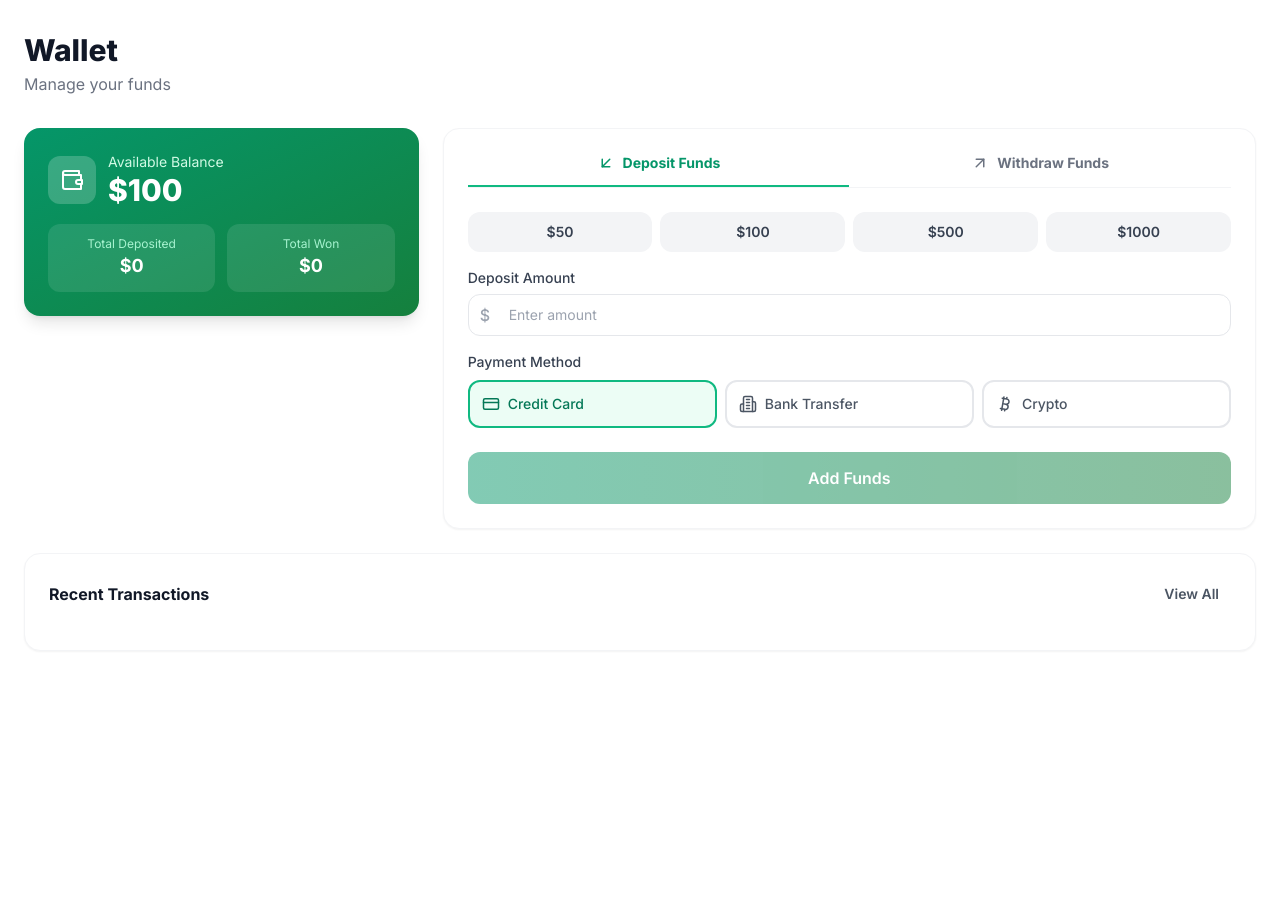
Test: Core pages smoke tests › WalletPage error state shows warning when withdrawal exceeds balance
Step 1. Click the button "Withdraw Funds" → (1040, 170), box [849,153,1231,187]
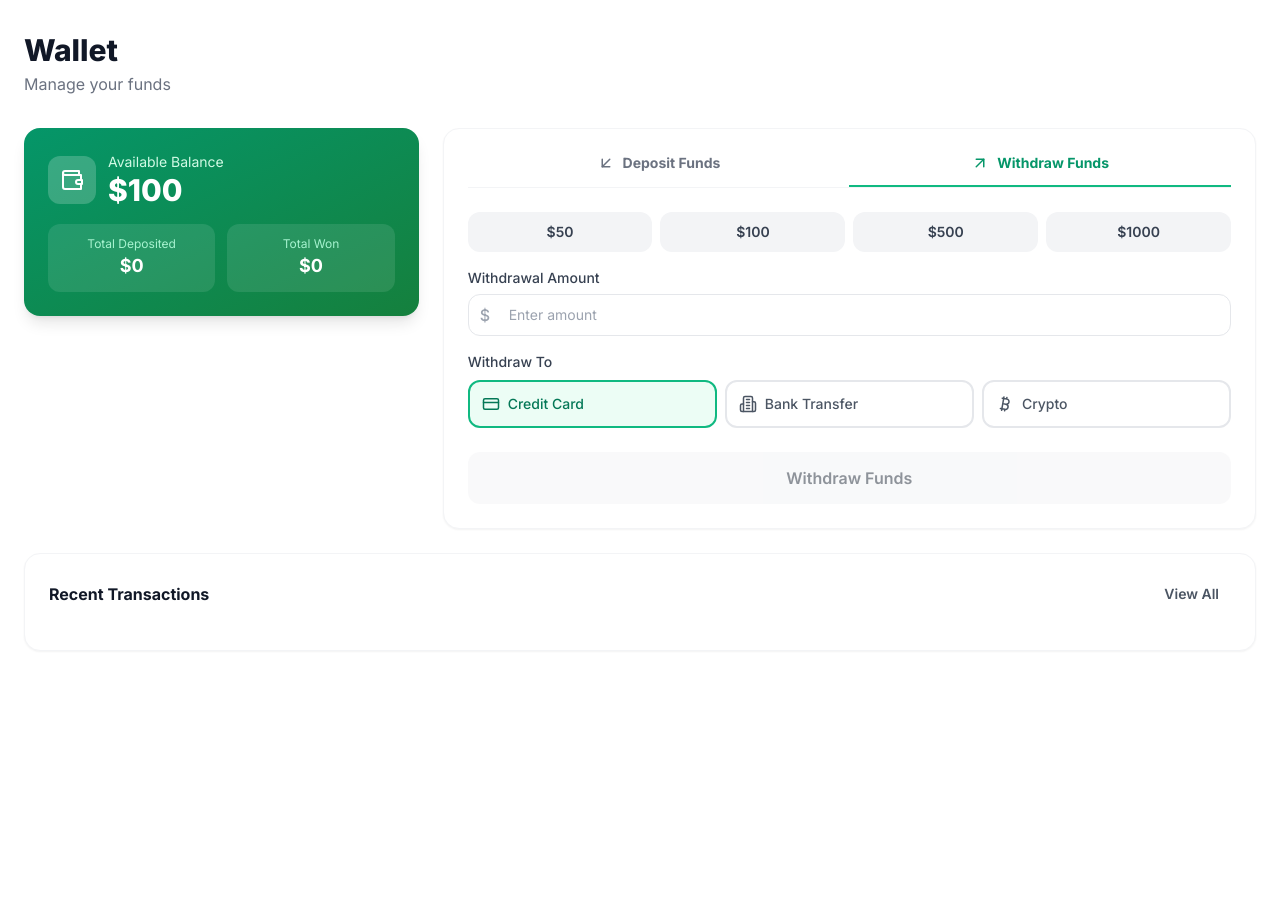
Step 2. Type "150" into the number field with placeholder "Enter amount" → (849, 315), box [468,294,1231,336]
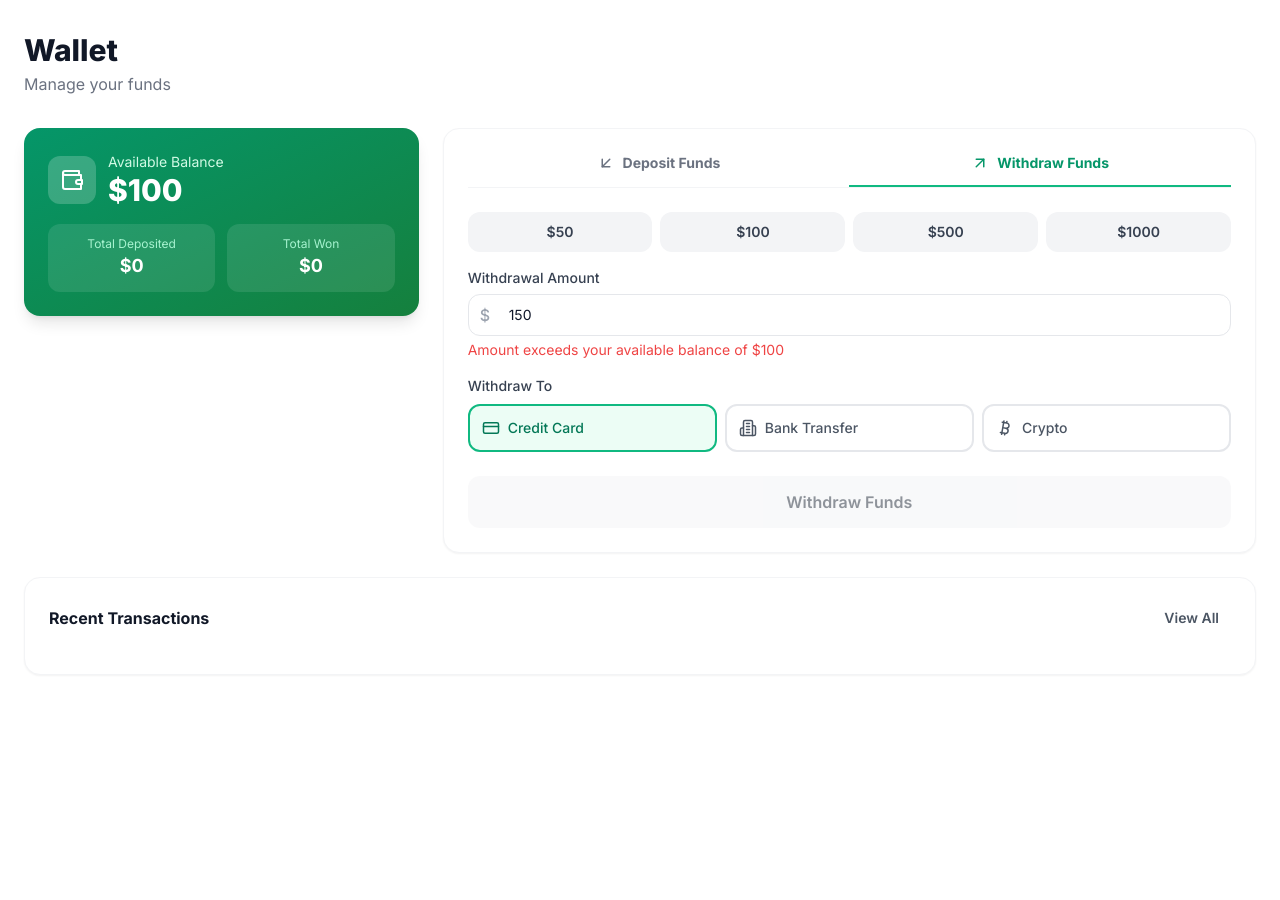
Result: the text "Amount exceeds your available balance of $100" is shown at [468,341,784,358]
